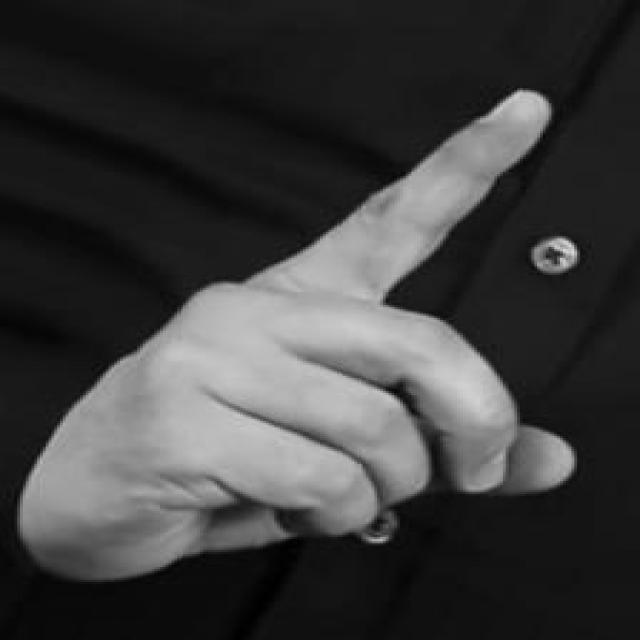I: (21, 79, 582, 585)
